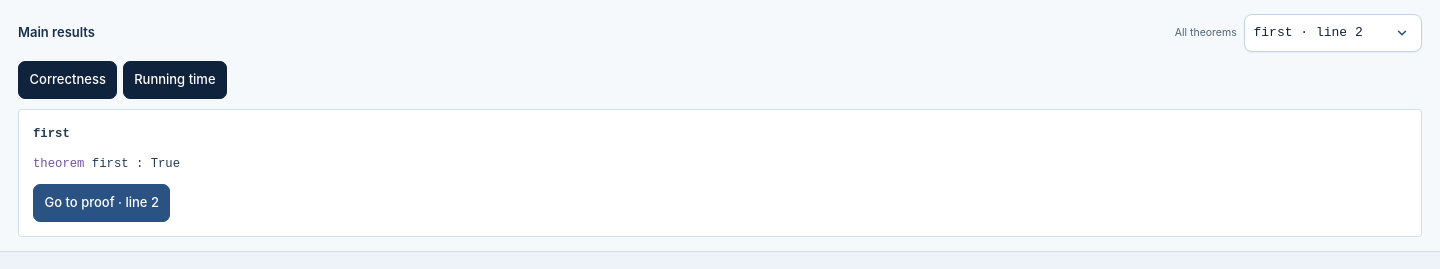
it: each category appears once while alternate results remain in All theorems
This screenshot has width=1440, height=269.
Select "second · line 4" in the dropdown labelled "All theorems" at (1333,33), box [1244,14,1422,52]
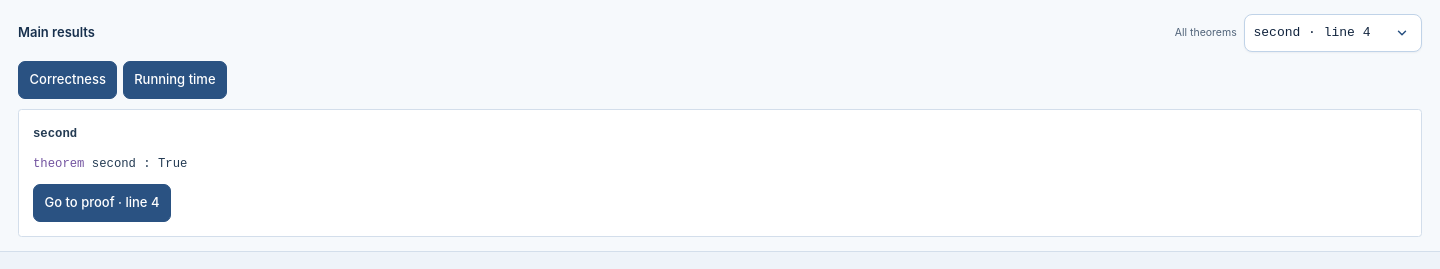
Now the element showing "theorem second : True" is shown, box [33,157,187,171]
